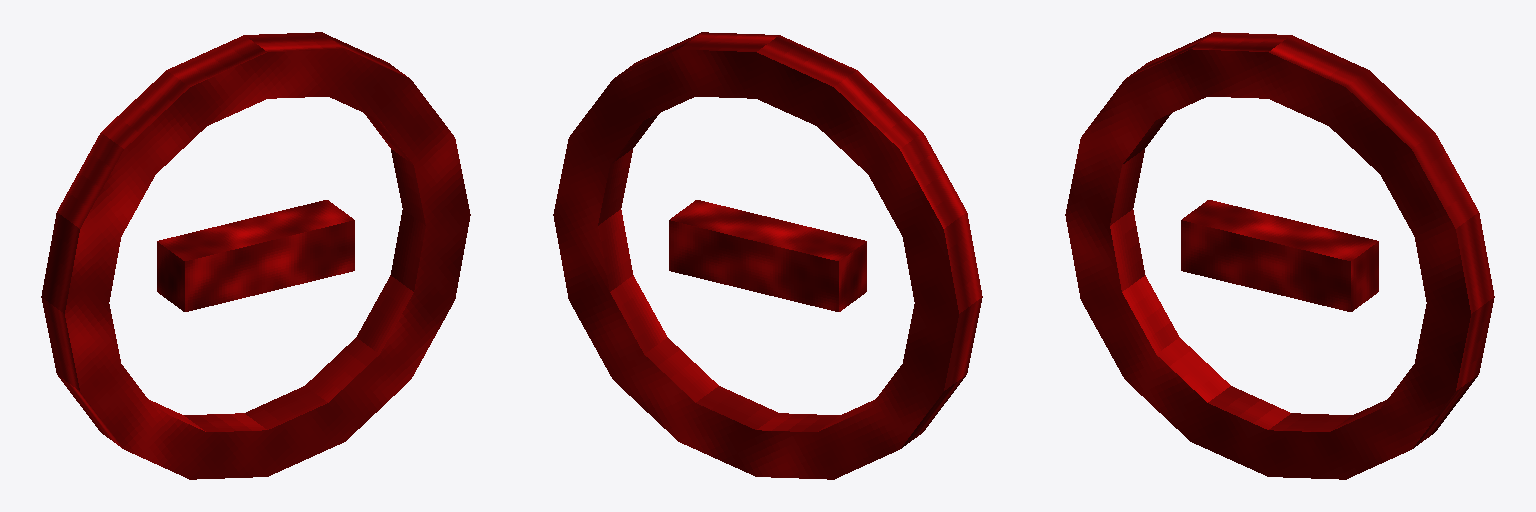
3 renders of one model, left to right at view 1: azimuth 30°, elevation 25°; view 2: azimuth 150°, elevation 25°; view 3: azimuth 330°, elevation 25°, orthographic.
Visible parts, largest first — view 1: PowerUp; view 2: PowerUp; view 3: PowerUp.
Part boxes in pixels (x1,y1,x2,y2): PowerUp: (41,32,470,479); PowerUp: (553,32,982,479); PowerUp: (1065,32,1494,479).
Size of the model in its own units: 1.5 by 1.5 by 0.1797.
Materials: 1 (1 with a texture image).